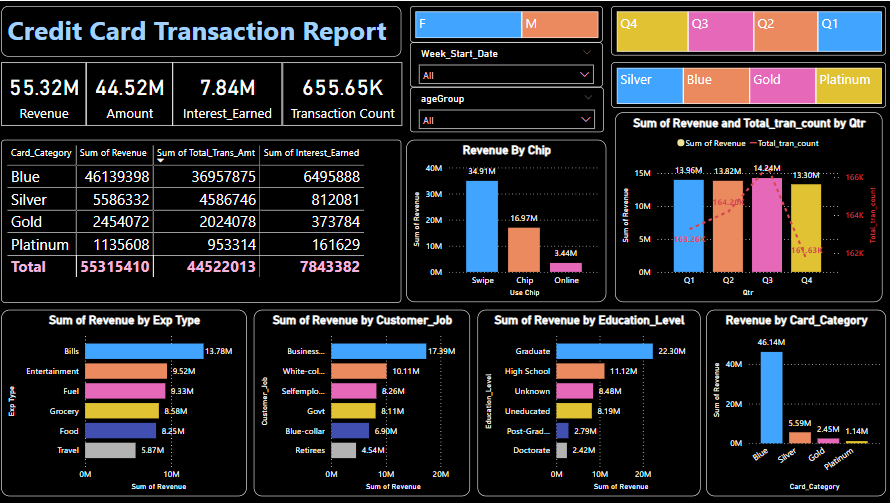

The page's visual inventory and layout, read from the dashboard file:
{"tool":"powerbi","page":{"name":"1","canvas":[1280,720],"ordinal":0},"visuals":[{"type":"textbox","box":[9.7,7.2,569.4,72.4],"z":0},{"type":"treemap","fields":{"Group":["credit_card_edited_file.Qtr"],"Values":["Avg(credit_card_edited_file.Client_Num)"]},"box":[877.2,7.2,391,70.7],"z":1000},{"type":"treemap","fields":{"Group":["credit_card_edited_file.Card_Category"],"Values":["Avg(credit_card_edited_file.Client_Num)"]},"box":[877.1,88.1,390.9,65.1],"z":2000},{"type":"treemap","fields":{"Group":["customer.Gender"],"Values":["CountNonNull(customer.Client_Num)"]},"box":[590.9,7.1,274.1,51.6],"z":3000},{"type":"slicer","fields":{"Values":["credit_card_edited_file.Week_Start_Date"]},"box":[590.9,58.7,274.1,64.1],"z":4000},{"type":"card","fields":{"Values":["Sum(credit_card_edited_file.Revenue)"]},"box":[9.7,88.1,120.6,90.5],"z":5000},{"type":"card","fields":{"Values":["Sum(credit_card_edited_file.Total_Trans_Amt)"]},"box":[130.3,88.1,123.1,90.5],"z":6000},{"type":"card","fields":{"Values":["Sum(credit_card_edited_file.Interest_Earned)"]},"box":[253.4,88.1,155.6,90.5],"z":7000},{"type":"card","fields":{"Values":["credit_card_edited_file.Total_tran_count"]},"box":[409,88.1,170.1,90.5],"z":8000},{"type":"tableEx","fields":{"Values":["credit_card_edited_file.Card_Category","Sum(credit_card_edited_file.Revenue)","Sum(credit_card_edited_file.Total_Trans_Amt)","Sum(credit_card_edited_file.Interest_Earned)"]},"box":[9.7,197.9,569.4,231.6],"z":9000},{"type":"columnChart","title":"Revenue By Chip","fields":{"Category":["credit_card_edited_file.Use Chip"],"Y":["Sum(credit_card_edited_file.Revenue)"]},"box":[585.5,197.6,284.8,231.4],"z":10000},{"type":"columnChart","title":"Revenue by Card_Category","fields":{"Category":["credit_card_edited_file.Card_Category"],"Y":["Sum(credit_card_edited_file.Revenue)"]},"box":[1012.2,439.1,255.8,265.4],"z":11000},{"type":"lineStackedColumnComboChart","fields":{"Category":["credit_card_edited_file.Qtr"],"Y":["Sum(credit_card_edited_file.Revenue)"],"Y2":["credit_card_edited_file.Total_tran_count"]},"box":[882.8,158.4,380.9,270.5],"z":12000},{"type":"barChart","fields":{"Y":["Sum(credit_card_edited_file.Revenue)"],"Category":["credit_card_edited_file.Exp Type"]},"box":[9.7,439.1,349.9,265.4],"z":13000},{"type":"barChart","fields":{"Y":["Sum(credit_card_edited_file.Revenue)"],"Category":["customer.Education_Level"]},"box":[686.5,439.1,317.3,265.4],"z":14000},{"type":"barChart","fields":{"Category":["customer.Customer_Job"],"Y":["Sum(credit_card_edited_file.Revenue)"]},"box":[368,439.1,307.6,265.4],"z":15000},{"type":"slicer","fields":{"Values":["customer.ageGroup"]},"box":[590.9,122.8,275.9,64.1],"z":16000}]}

Visuals, with their boxes in screenshot pixels (x1, y1, x2, y2), scaled from the page's 1280x720 canvas onto the 890x503 screenshot:
textbox: locate(7, 5, 403, 56)
treemap - credit_card_edited_file.Qtr x Avg(credit_card_edited_file.Client_Num): locate(610, 5, 882, 54)
treemap - credit_card_edited_file.Card_Category x Avg(credit_card_edited_file.Client_Num): locate(610, 62, 882, 107)
treemap - customer.Gender x CountNonNull(customer.Client_Num): locate(411, 5, 601, 41)
slicer - credit_card_edited_file.Week_Start_Date: locate(411, 41, 601, 86)
card - Sum(credit_card_edited_file.Revenue): locate(7, 62, 91, 125)
card - Sum(credit_card_edited_file.Total_Trans_Amt): locate(91, 62, 176, 125)
card - Sum(credit_card_edited_file.Interest_Earned): locate(176, 62, 284, 125)
card - credit_card_edited_file.Total_tran_count: locate(284, 62, 403, 125)
tableEx - credit_card_edited_file.Card_Category x Sum(credit_card_edited_file.Revenue): locate(7, 138, 403, 300)
"Revenue By Chip" columnChart: locate(407, 138, 605, 300)
"Revenue by Card_Category" columnChart: locate(704, 307, 882, 492)
lineStackedColumnComboChart - credit_card_edited_file.Qtr x Sum(credit_card_edited_file.Revenue): locate(614, 111, 879, 300)
barChart - Sum(credit_card_edited_file.Revenue) x credit_card_edited_file.Exp Type: locate(7, 307, 250, 492)
barChart - Sum(credit_card_edited_file.Revenue) x customer.Education_Level: locate(477, 307, 698, 492)
barChart - customer.Customer_Job x Sum(credit_card_edited_file.Revenue): locate(256, 307, 470, 492)
slicer - customer.ageGroup: locate(411, 86, 603, 131)
